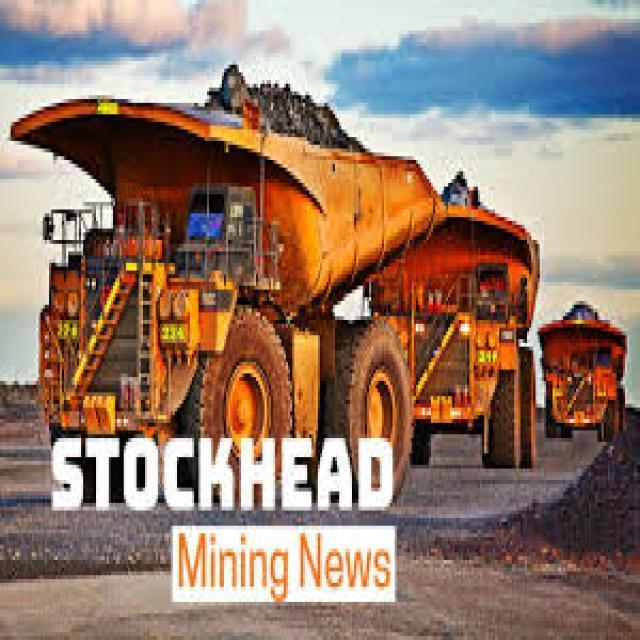uncovered: (57, 56, 400, 411)
